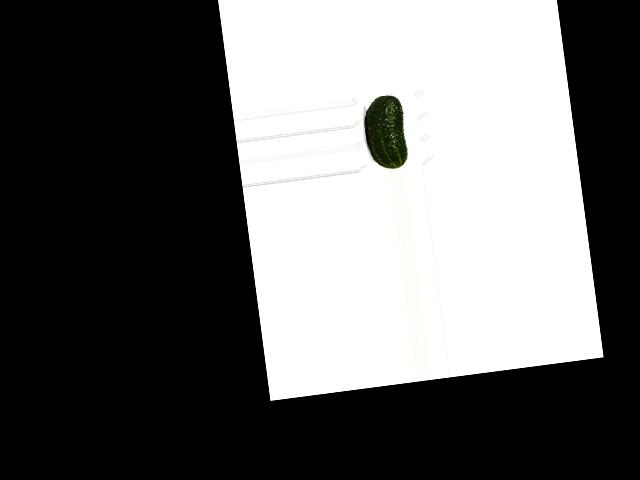cucumber: (361, 93, 408, 171)
